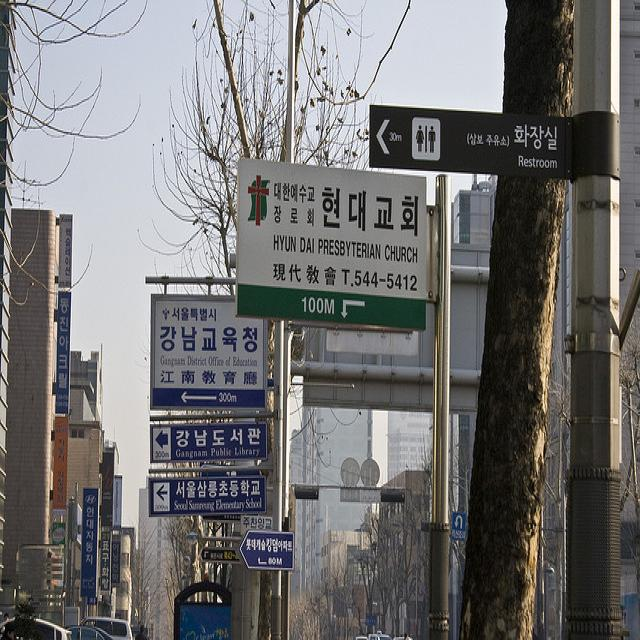Vehicle: (0, 617, 73, 640), (80, 616, 132, 640), (68, 627, 115, 640)
